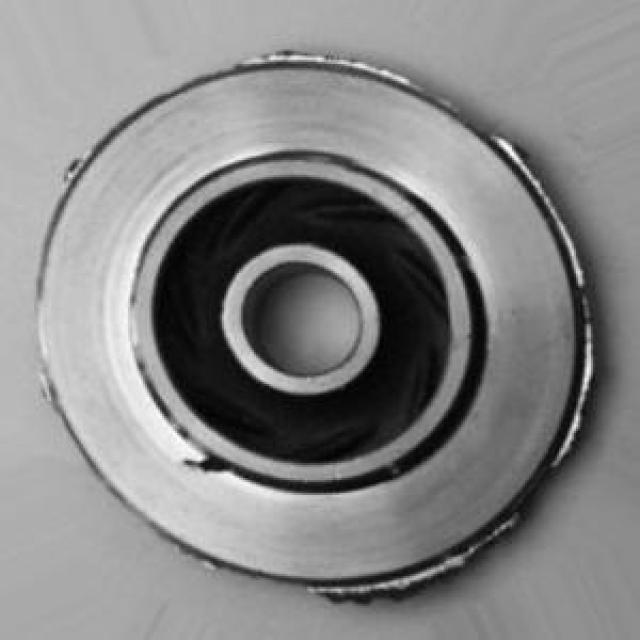Defect: (183, 440, 239, 491)
